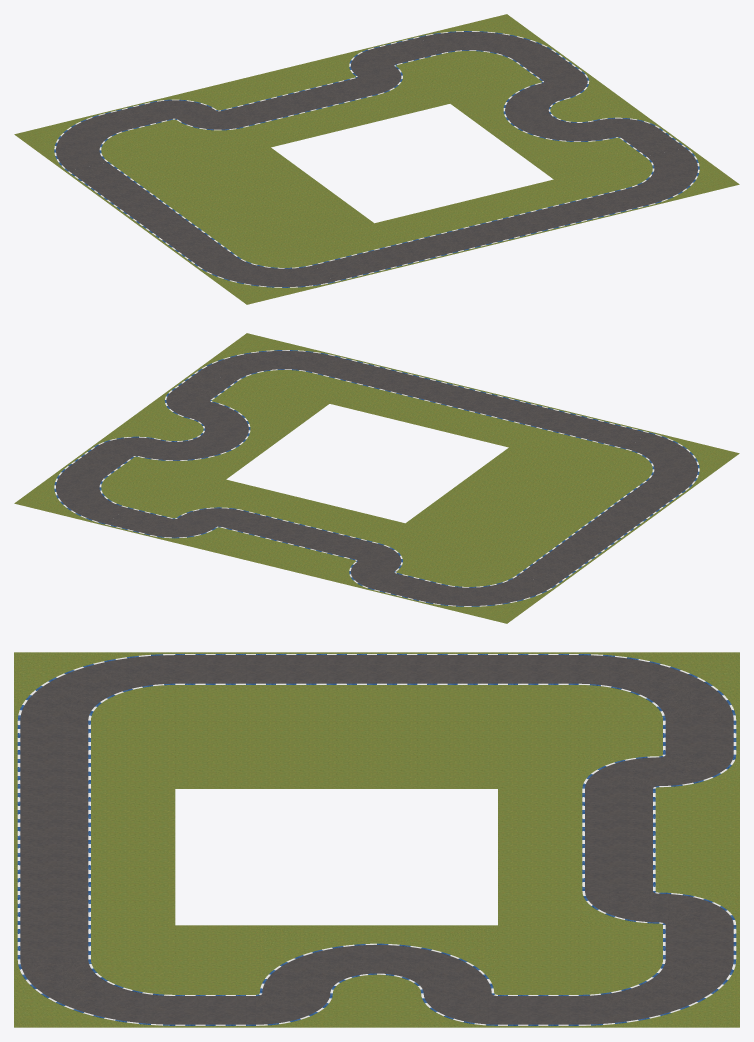
The model's file is track_01.glb.
3 views of the same model, one above another, from view 1: azimuth 30°, elevation 25°; view 2: azimuth 150°, elevation 25°; view 3: azimuth 270°, elevation 25° (orthographic). The views are drawn at different scales.
Visible parts, largest first — view 1: Forest_mod04_turn180.006, Forest_mod03_turn90_big.004, Forest_mod03_turn90_big.005, Forest_mod03_turn90_big.006, Forest_mod03_turn90_big.007, Forest_mod00_empty.051, Forest_mod00_empty.028, Forest_mod00_empty.030, Forest_mod00_empty.037, Forest_mod00_empty.038, Forest_mod00_empty.043, Forest_mod00_empty.044 (+54 smaller); view 2: Forest_mod04_turn180.006, Forest_mod03_turn90_big.006, Forest_mod03_turn90_big.007, Forest_mod03_turn90_big.004, Forest_mod03_turn90_big.005, Forest_mod00_empty.053, Forest_mod01_straight.041, Forest_mod00_empty.028, Forest_mod00_empty.040, Forest_mod00_empty.041, Forest_mod00_empty.046, Forest_mod00_empty.047 (+54 smaller); view 3: Forest_mod04_turn180.006, Forest_mod03_turn90_big.004, Forest_mod03_turn90_big.005, Forest_mod03_turn90_big.006, Forest_mod03_turn90_big.007, Forest_mod00_empty.050, Forest_mod01_straight.034, Forest_mod00_empty.026, Forest_mod00_empty.031, Forest_mod00_empty.032, Forest_mod00_empty.039, Forest_mod00_empty.040 (+54 smaller).
Part boxes in pixels (left/top/right/bottom): Forest_mod04_turn180.006: left=450, top=82, right=616, bottom=160; Forest_mod03_turn90_big.004: left=418, top=14, right=558, bottom=73; Forest_mod03_turn90_big.005: left=195, top=245, right=335, bottom=304; Forest_mod03_turn90_big.006: left=599, top=147, right=739, bottom=206; Forest_mod03_turn90_big.007: left=14, top=112, right=154, bottom=171; Forest_mod00_empty.051: left=181, top=158, right=251, bottom=188; Forest_mod00_empty.028: left=238, top=69, right=308, bottom=98; Forest_mod00_empty.030: left=226, top=147, right=296, bottom=177; Forest_mod00_empty.037: left=424, top=74, right=494, bottom=103; Forest_mod00_empty.038: left=469, top=63, right=539, bottom=92; Forest_mod00_empty.043: left=464, top=190, right=534, bottom=220; Forest_mod00_empty.044: left=509, top=179, right=579, bottom=209; Forest_mod04_turn180.006: left=137, top=401, right=303, bottom=479; Forest_mod03_turn90_big.006: left=195, top=333, right=335, bottom=392; Forest_mod03_turn90_big.007: left=418, top=564, right=558, bottom=623; Forest_mod03_turn90_big.004: left=14, top=466, right=154, bottom=525; Forest_mod03_turn90_big.005: left=599, top=431, right=739, bottom=490; Forest_mod00_empty.053: left=502, top=477, right=572, bottom=507; Forest_mod01_straight.041: left=445, top=388, right=515, bottom=417; Forest_mod00_empty.028: left=238, top=539, right=308, bottom=568; Forest_mod00_empty.040: left=509, top=428, right=579, bottom=458; Forest_mod00_empty.041: left=464, top=417, right=534, bottom=447; Forest_mod00_empty.046: left=259, top=393, right=329, bottom=422; Forest_mod00_empty.047: left=214, top=382, right=284, bottom=411; Forest_mod04_turn180.006: left=256, top=925, right=497, bottom=993; Forest_mod03_turn90_big.004: left=578, top=959, right=739, bottom=1027; Forest_mod03_turn90_big.005: left=14, top=652, right=175, bottom=720; Forest_mod03_turn90_big.006: left=14, top=959, right=175, bottom=1027; Forest_mod03_turn90_big.007: left=578, top=652, right=739, bottom=720; Forest_mod00_empty.050: left=336, top=993, right=417, bottom=1027; Forest_mod01_straight.034: left=336, top=652, right=417, bottom=686; Forest_mod00_empty.026: left=578, top=720, right=659, bottom=754; Forest_mod00_empty.031: left=336, top=754, right=417, bottom=788; Forest_mod00_empty.032: left=578, top=925, right=659, bottom=959; Forest_mod00_empty.039: left=94, top=720, right=175, bottom=754; Forest_mod00_empty.040: left=94, top=754, right=175, bottom=788.
Bounding box in the file's own units: 176 × 0.03 × 144.
3 materials, 3 textured.
